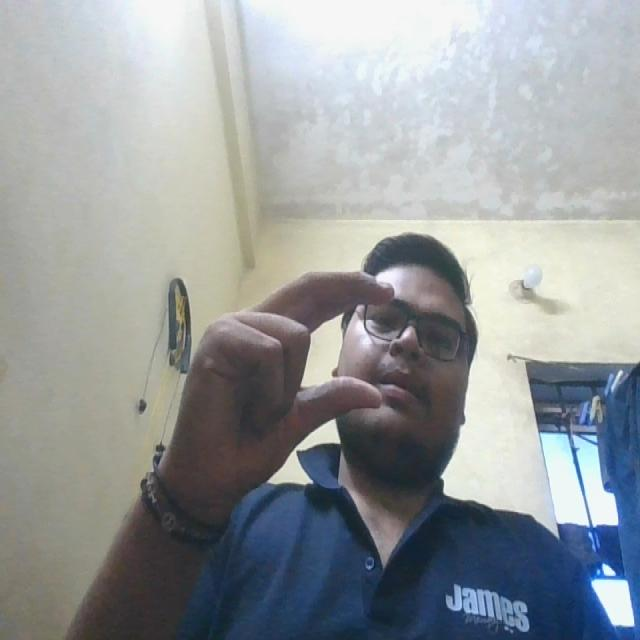No: (163, 244, 405, 510)
